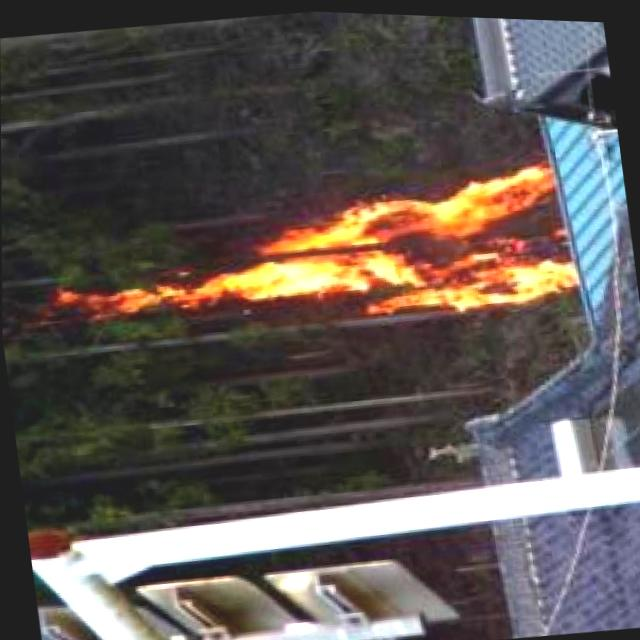helmet: (68, 142, 586, 365)
